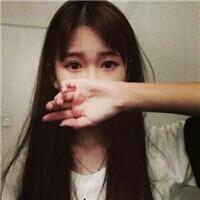face: (54, 26, 125, 123)
